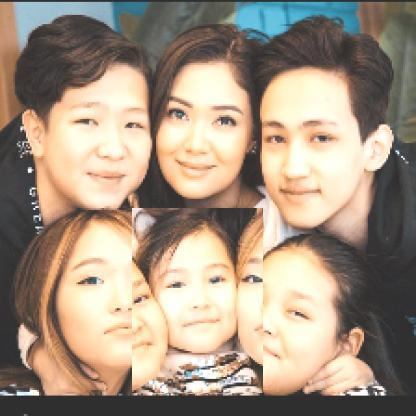child: (230, 233, 416, 415), (133, 209, 265, 395)
